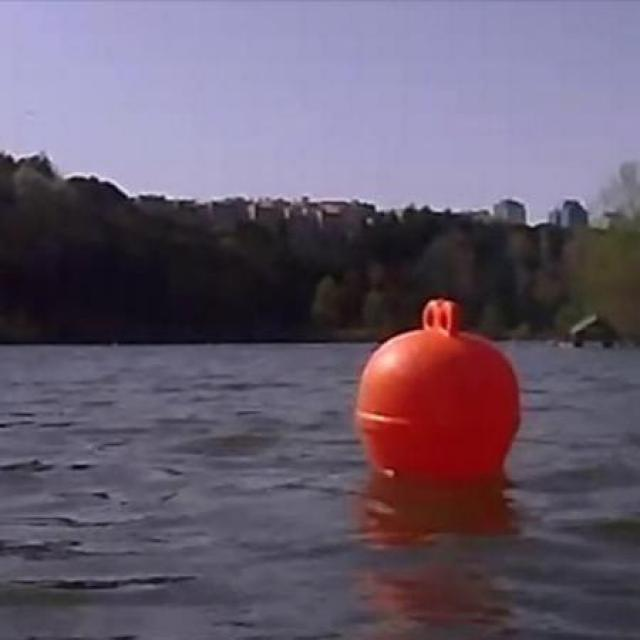buoy: (354, 299, 521, 485)
